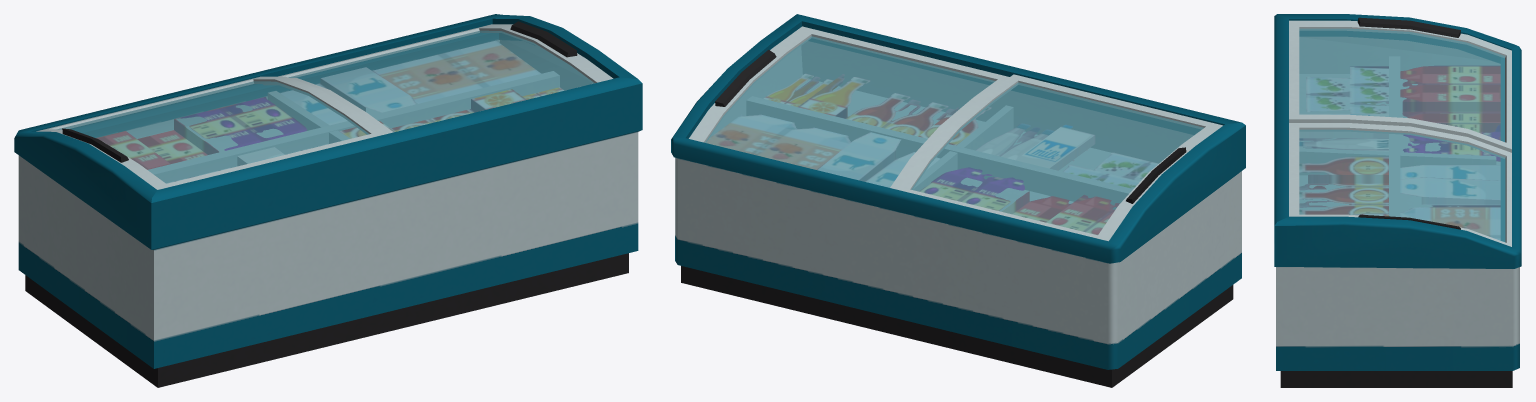
File: FreezerB.fbx
3 renders of one model, left to right at view 1: azimuth 30°, elevation 25°; view 2: azimuth 150°, elevation 25°; view 3: azimuth 270°, elevation 25°, orthographic. The views are drawn at different scales.
Visible parts, largest first — view 1: FreezerB; view 2: FreezerB; view 3: FreezerB.
Part boxes in pixels (<box>): FreezerB: <box>14,14,642,387</box>; FreezerB: <box>671,14,1245,387</box>; FreezerB: <box>1274,14,1521,387</box>.
Bounding box in the file's own units: 290 × 111 × 144.
